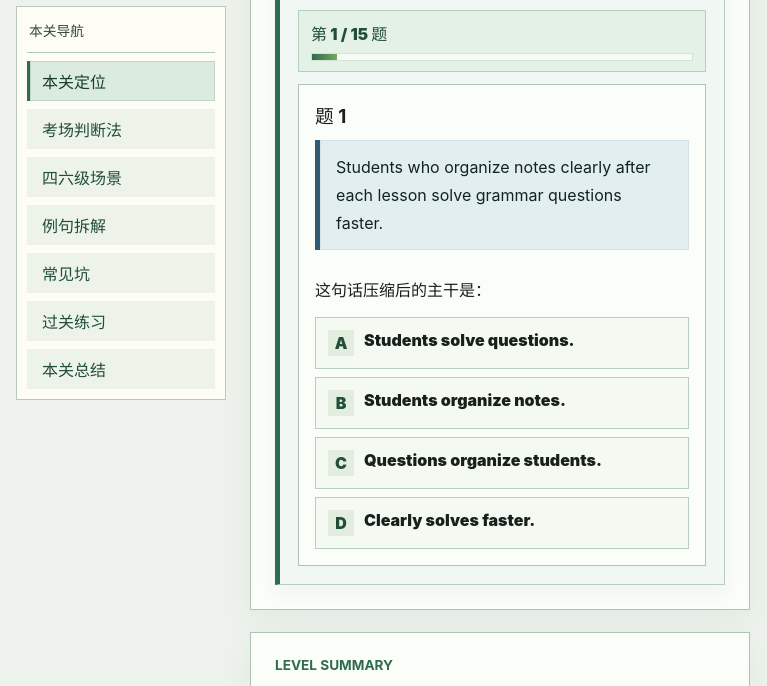
Scenario: LevelSevenPage › renders the long-sentence compression lesson and gives instant feedback
(page scrolled)
Expected: the navigation bar named "第 7 关学习路线" is shown, [16,6,226,400]
Expected: the heading "题 1" is shown, [315,101,346,128]
Click the button "A Students solve questions." at (502, 343), box [315,317,689,369]
(page scrolled)
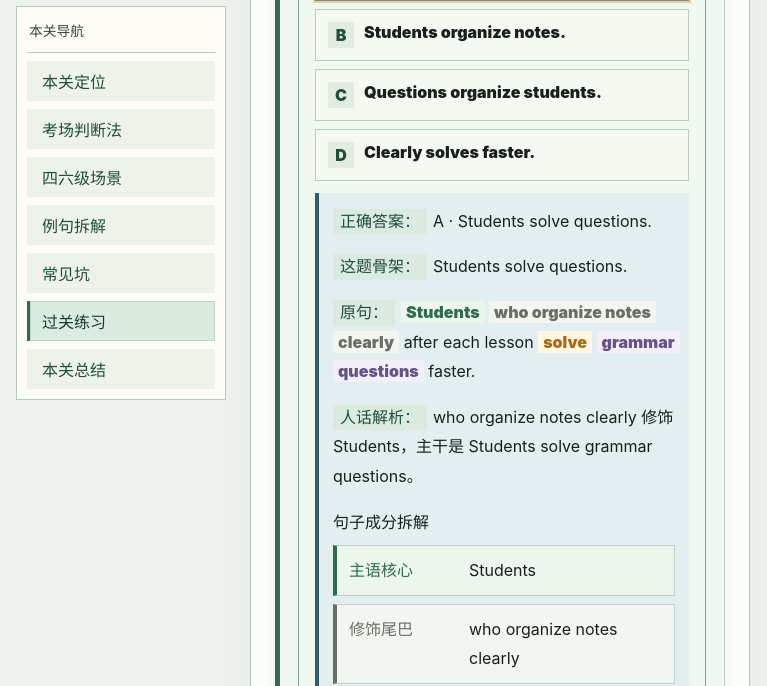
Result: the element named "原句标色" shows "Students" at [406,302,480,322]
